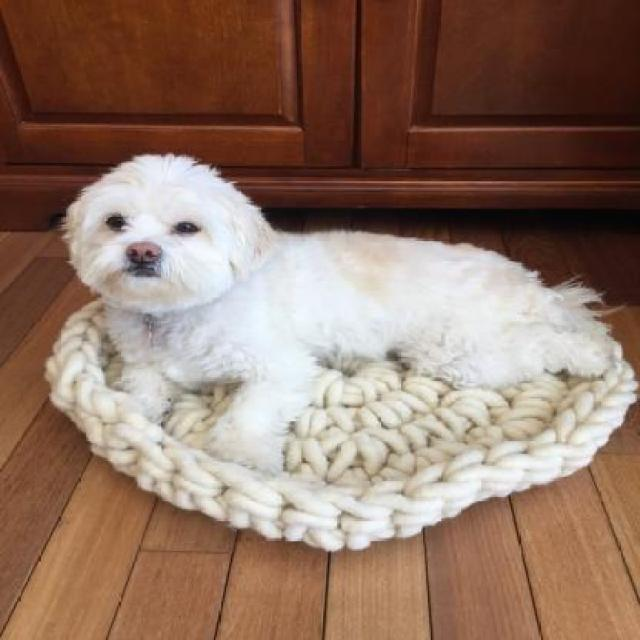Dog: (57, 150, 635, 482)
